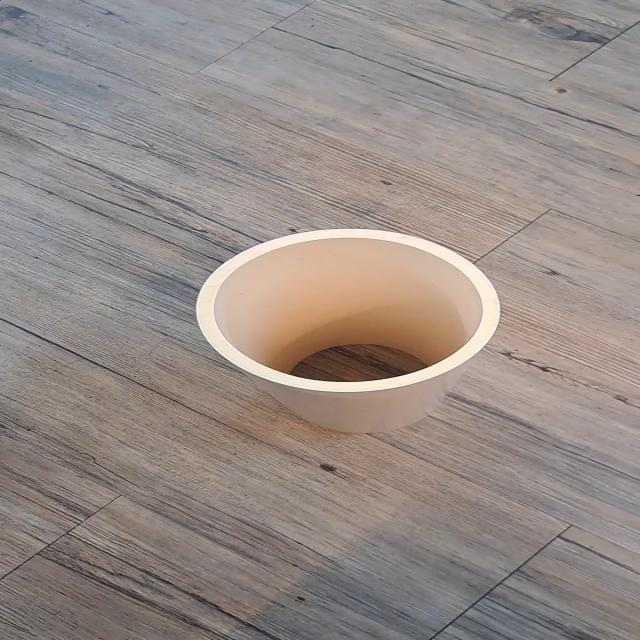CORAL: (152, 206, 534, 447)
